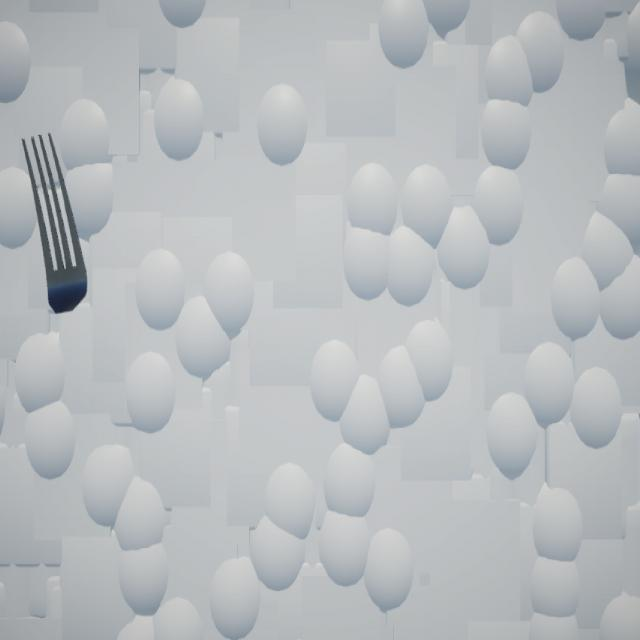top_folk: (23, 133, 89, 315)
